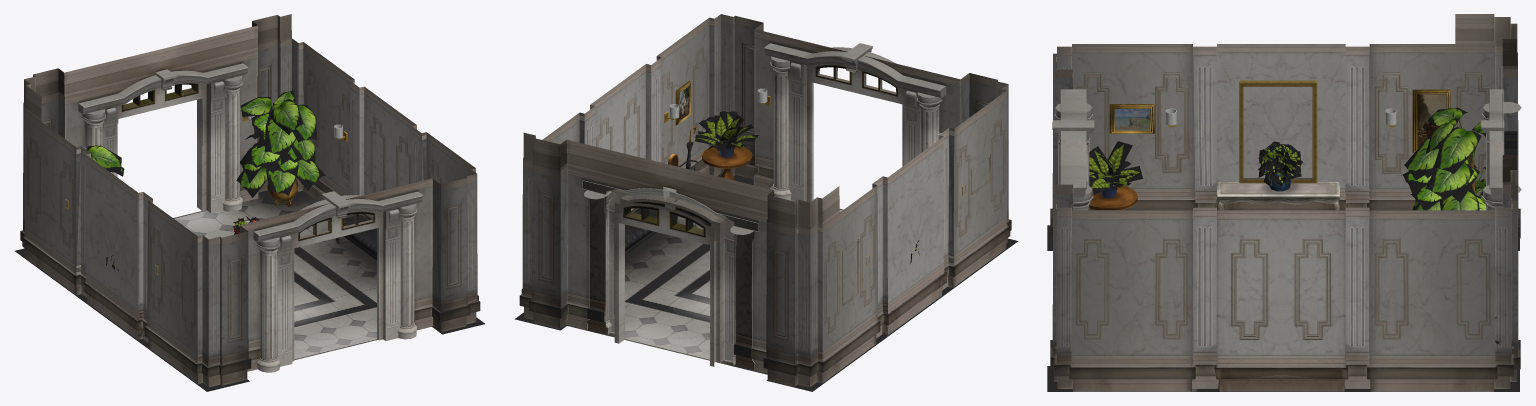
Rendered from hall.obj.
The picture shows the model from 3 angles, left to right: view 1: azimuth 30°, elevation 25°; view 2: azimuth 150°, elevation 25°; view 3: azimuth 270°, elevation 25°; orthographic projection. The views are drawn at different scales.
Parts seen in each view (by area): view 1: hall_walls_1893, hall_props_9040, hall_plants_3774; view 2: hall_walls_1893, hall_props_9040, hall_plants_3774; view 3: hall_walls_1893, hall_props_9040, hall_plants_3774, hall_props_1904.
Part boxes in pixels (bbox=[...]): hall_walls_1893: bbox=[15, 14, 484, 391]; hall_props_9040: bbox=[43, 63, 423, 372]; hall_plants_3774: bbox=[87, 90, 325, 274]; hall_walls_1893: bbox=[515, 14, 1018, 391]; hall_props_9040: bbox=[582, 43, 990, 369]; hall_plants_3774: bbox=[583, 111, 919, 263]; hall_walls_1893: bbox=[1047, 14, 1520, 391]; hall_props_9040: bbox=[1052, 80, 1521, 210]; hall_plants_3774: bbox=[1089, 107, 1499, 344]; hall_props_1904: bbox=[1089, 108, 1485, 151].
Bounding box in the file's own units: 5.87 × 3.45 × 6.97.
